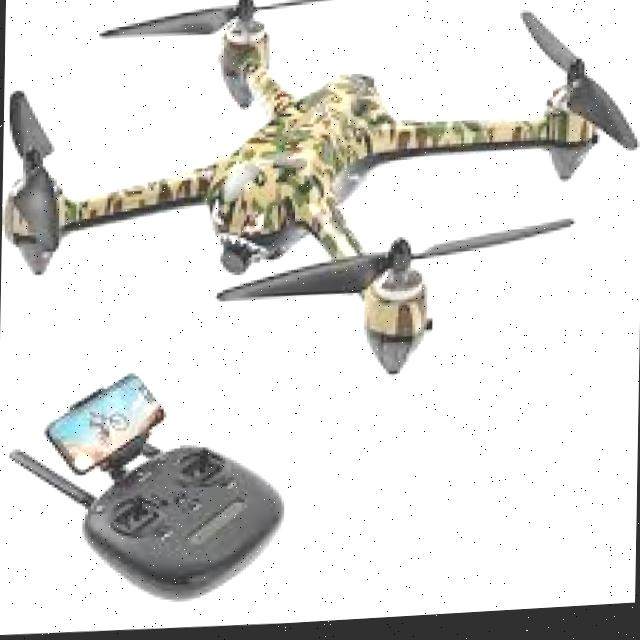drone: (0, 0, 640, 409)
